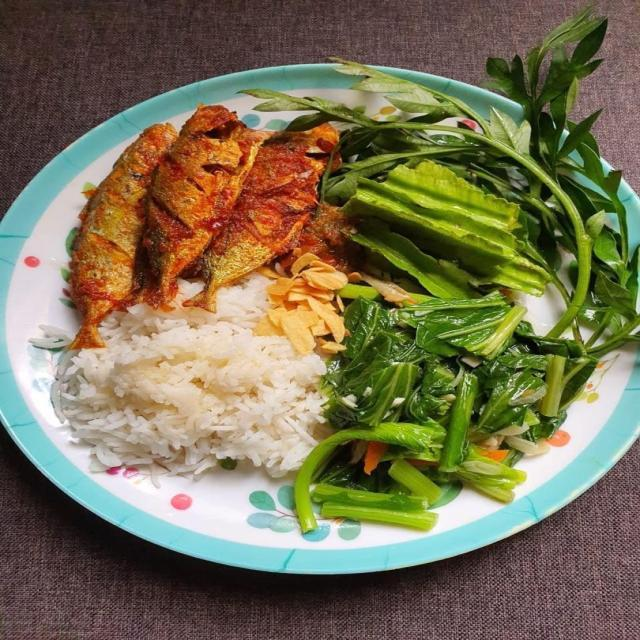Fish: (65, 105, 344, 350)
Plate: (0, 65, 639, 563)
Rice: (56, 268, 348, 483)
Vegetables: (238, 6, 639, 534)
